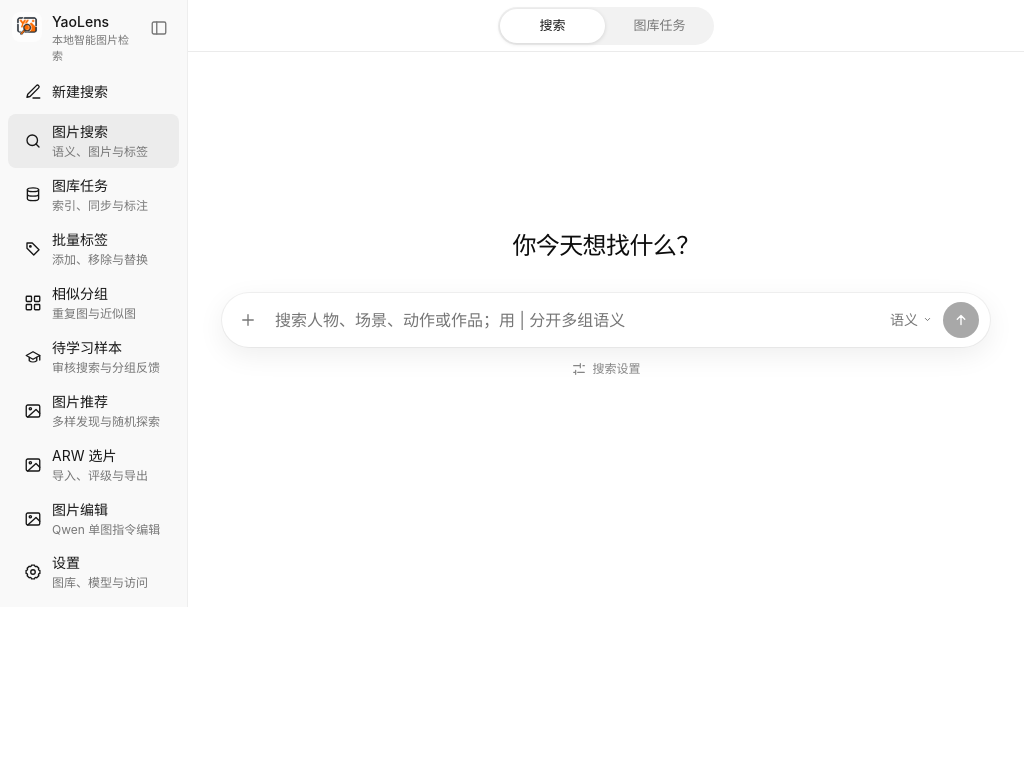
Scenario: App page shell › unmounts the detail preview in the small-window scroll layout
Step 1. Type "人物写真" into the search field with placeholder "搜索人物、场景、动作或作品；用 | 分开多组语义" → (574, 320), box [270,300,879,340]
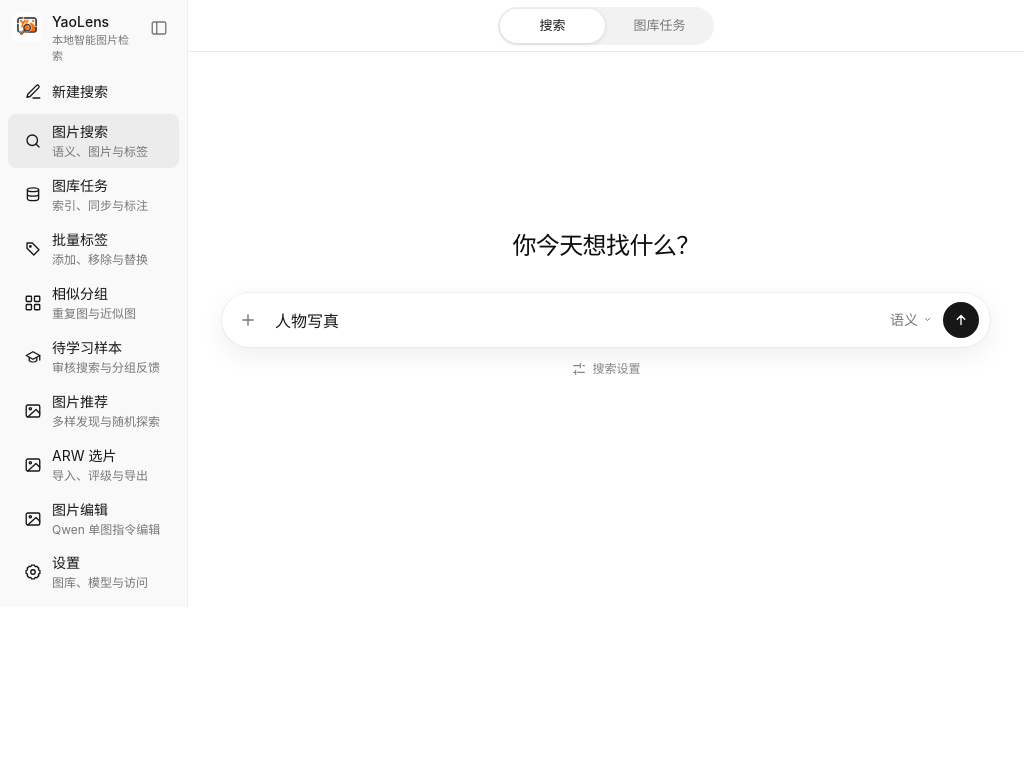
Step 2. Click the button with test id "submit-search" → click(961, 320), box [943,302,979,338]
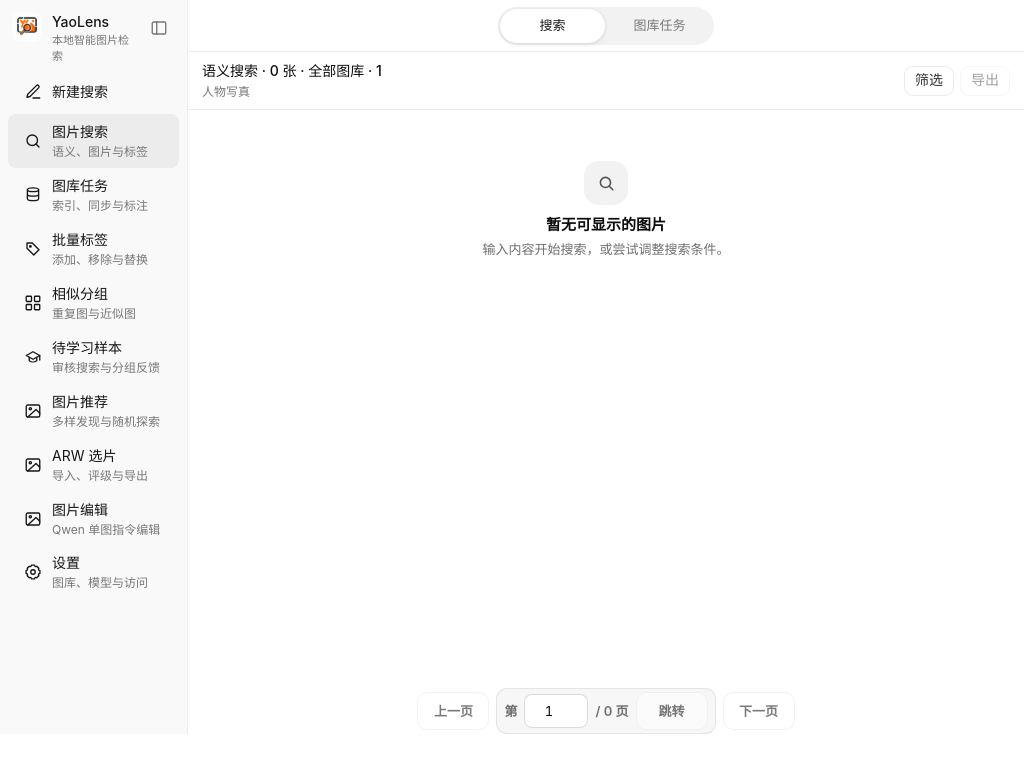
Expected: the element with class "gallery-panel" is shown
